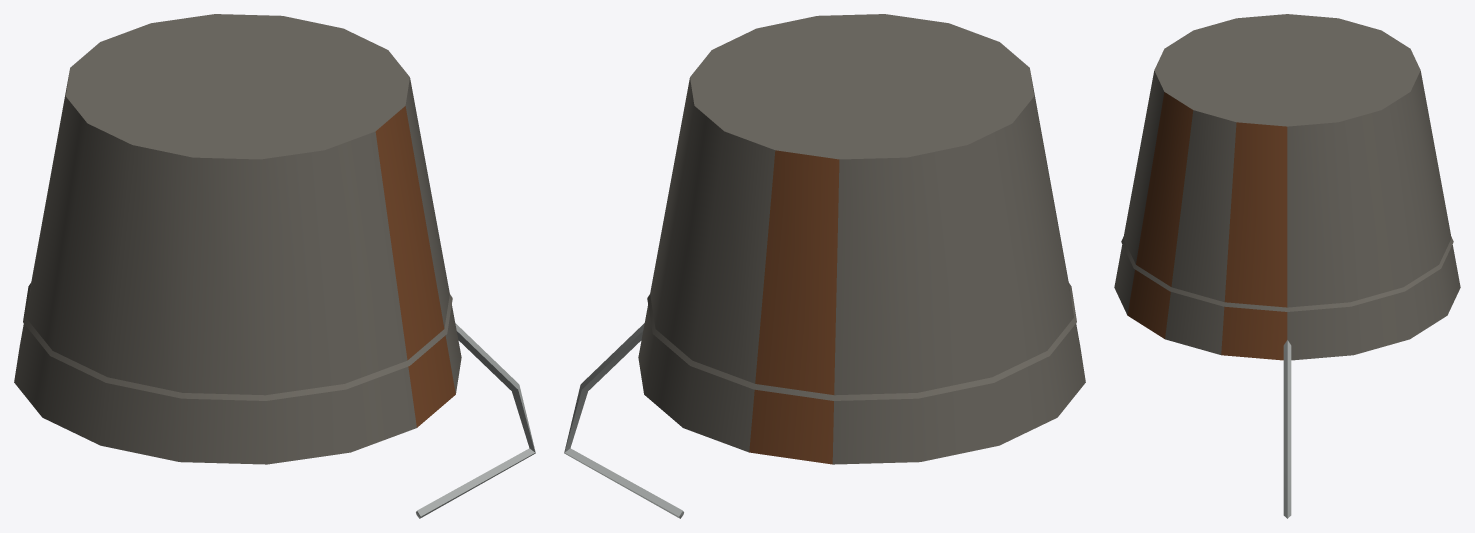
File: hat_bucket.glb
3 views of the same model, side by side, from view 1: azimuth 30°, elevation 25°; view 2: azimuth 150°, elevation 25°; view 3: azimuth 270°, elevation 25° (orthographic). The views are drawn at different scales.
Visible parts, largest first — view 1: hat_bucket; view 2: hat_bucket; view 3: hat_bucket.
Boxes of the visible parts, box(x1,y1,x2,y2) form: hat_bucket: box(14, 14, 535, 518); hat_bucket: box(564, 14, 1085, 518); hat_bucket: box(1114, 14, 1460, 518).
Bounding box in the file's own units: 0.3282 × 0.3029 × 0.26.
